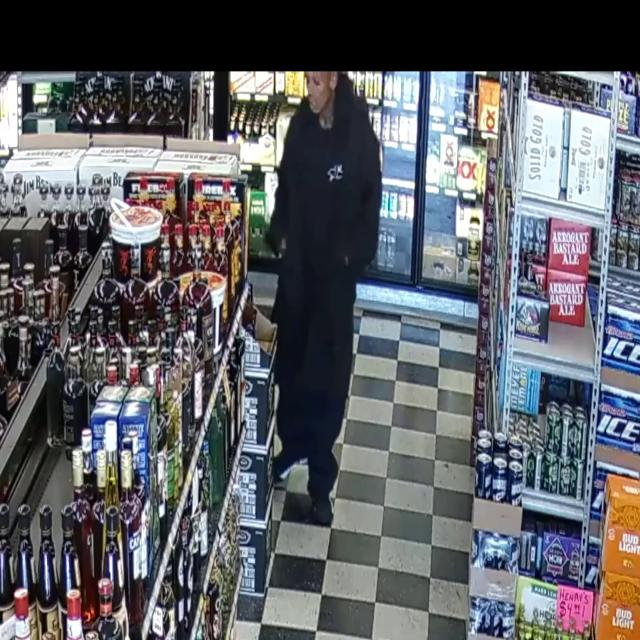normal: (249, 68, 397, 551)
